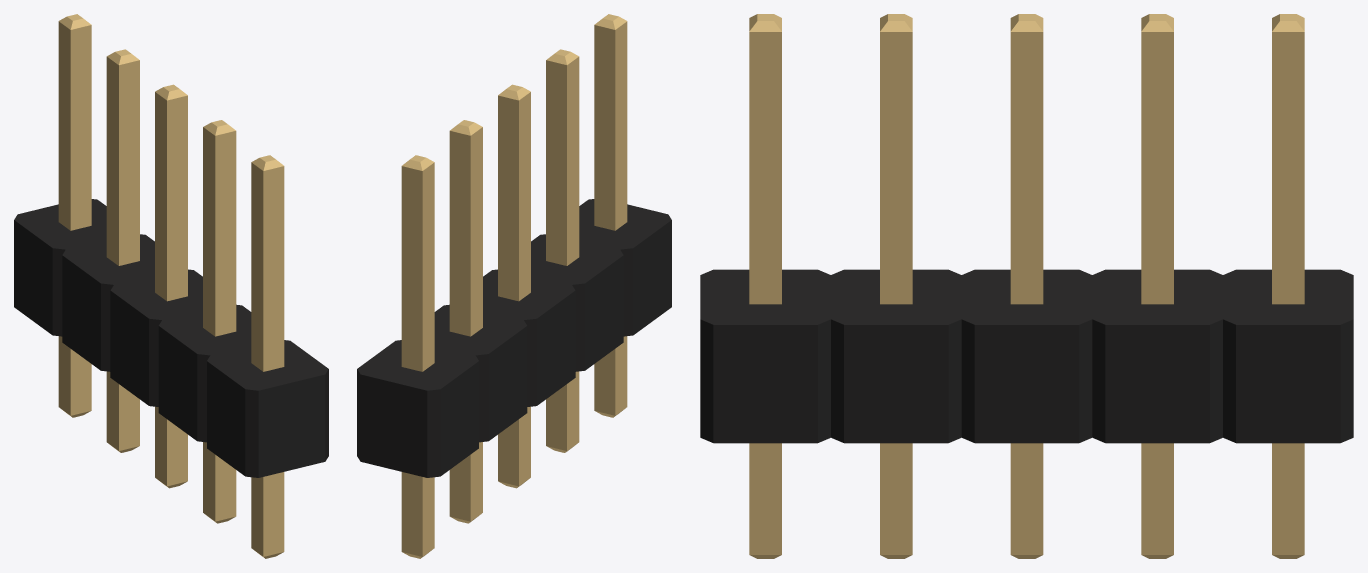
Rendered from Connector_PinHeader_2.54mm__PinHeader_1x05_P2.54mm_Vertical.glb.
The picture shows the model from 3 angles, left to right: view 1: azimuth 30°, elevation 25°; view 2: azimuth 150°, elevation 25°; view 3: azimuth 270°, elevation 25°; orthographic projection. The views are drawn at different scales.
Visible parts, largest first — view 1: PinHeader_1x05_P254mm_Vertical; view 2: PinHeader_1x05_P254mm_Vertical; view 3: PinHeader_1x05_P254mm_Vertical.
Part boxes in pixels (x1=…): PinHeader_1x05_P254mm_Vertical: x1=14, y1=14, x2=328, y2=558; PinHeader_1x05_P254mm_Vertical: x1=357, y1=14, x2=671, y2=558; PinHeader_1x05_P254mm_Vertical: x1=700, y1=14, x2=1353, y2=558.
Size of the model in its own units: 0.00254 by 0.0115 by 0.0127.
